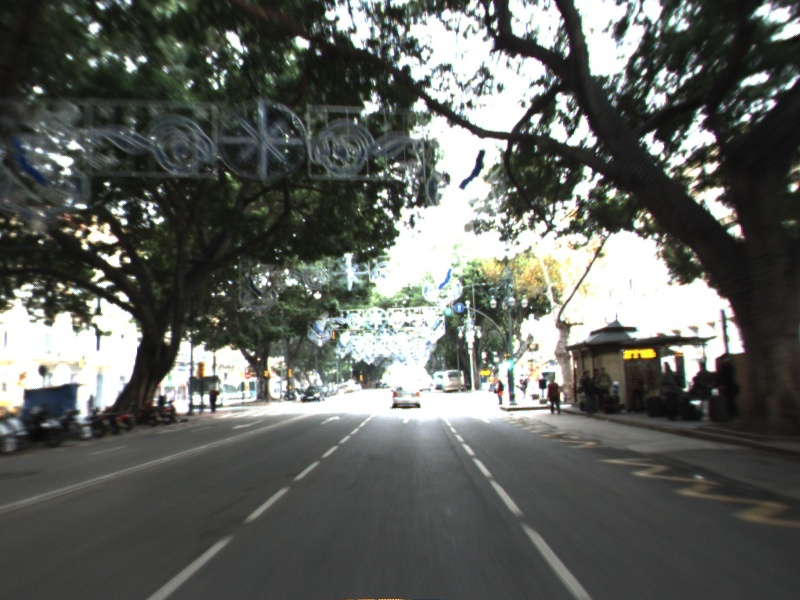STRAIGHT: (317, 413, 342, 427)
